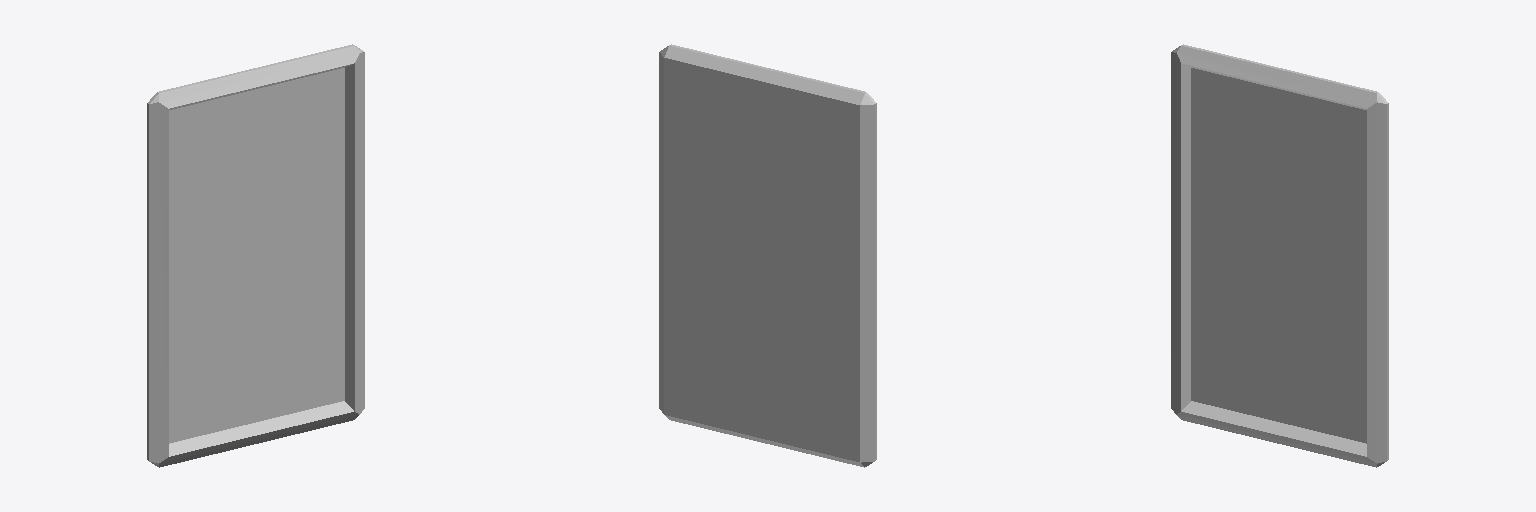
The model's file is gridpanel.obj.
The picture shows the model from 3 angles: view 1: azimuth 30°, elevation 25°; view 2: azimuth 150°, elevation 25°; view 3: azimuth 330°, elevation 25°; orthographic projection.
Parts seen in each view (by area): view 1: Cube; view 2: Cube; view 3: Cube.
Part boxes in pixels (x1,y1,x2,y2): Cube: (147, 44, 364, 467); Cube: (659, 44, 876, 467); Cube: (1171, 44, 1388, 467).
Size of the model in its own units: 0.0098 by 0.0162 by 0.0009.